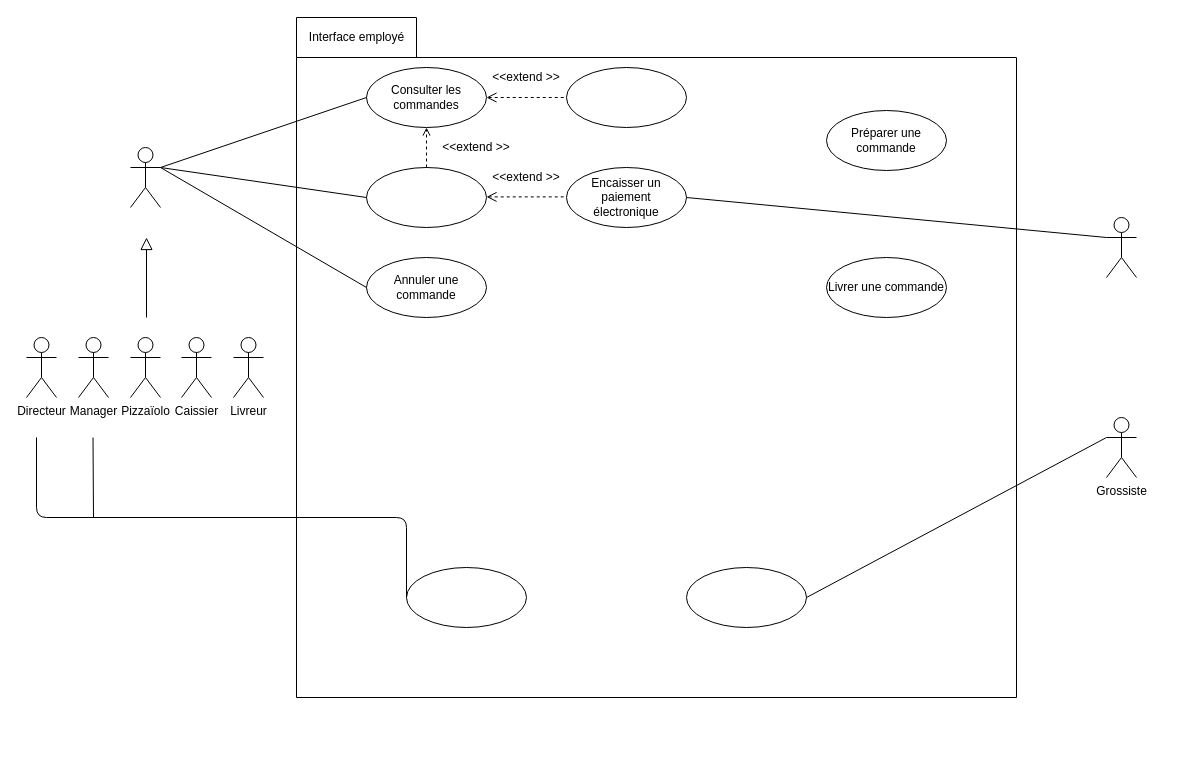
The diagram is 1187 pixels wide and 765 high, and some of its shapes have lost their labels. Here are the shapes that lost their labels. From the top down, the centre of each, then its label:
At (626,97): "Changer l'état d'une commande".
At (145,177): "Employé".
At (426,197): "Encaisser une commande".
At (1121,247): "Système bancaire".
At (466,597): "Consulter les stocks".
At (746,597): "Commander des articles".
